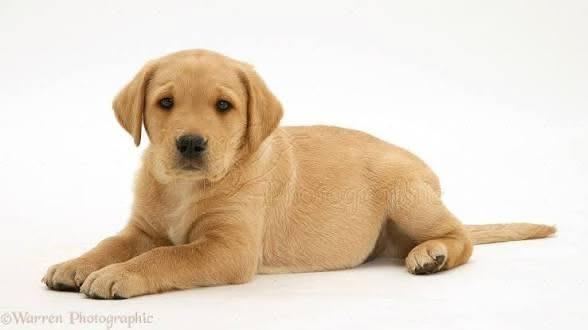puppy-dog: (37, 48, 560, 300)
